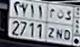1: (37, 4, 44, 39), (29, 3, 35, 38)
2: (11, 1, 19, 36)
7: (20, 1, 28, 36)
D: (64, 10, 72, 41)
N: (56, 10, 63, 40)
Z: (48, 8, 55, 38)
